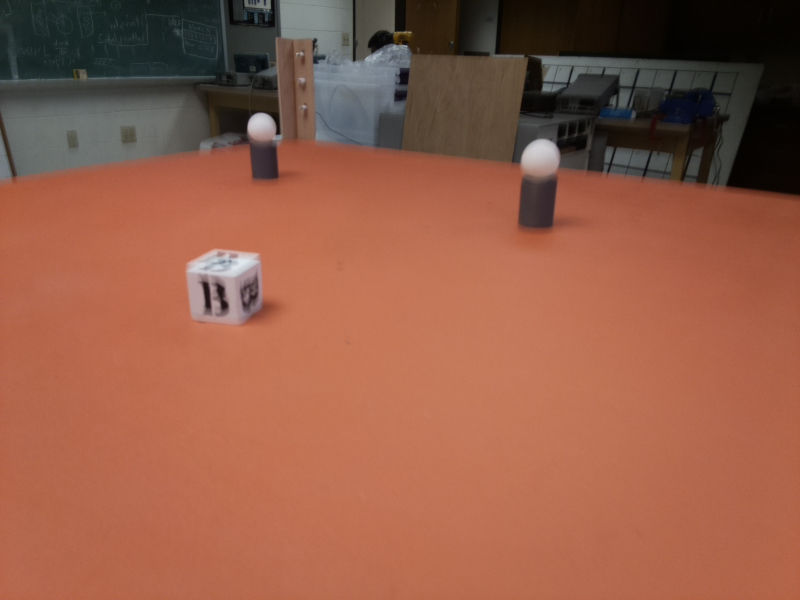blockB: (190, 246, 267, 325)
corner: (279, 34, 313, 147)
obstacle: (519, 135, 559, 233), (242, 114, 281, 177)
